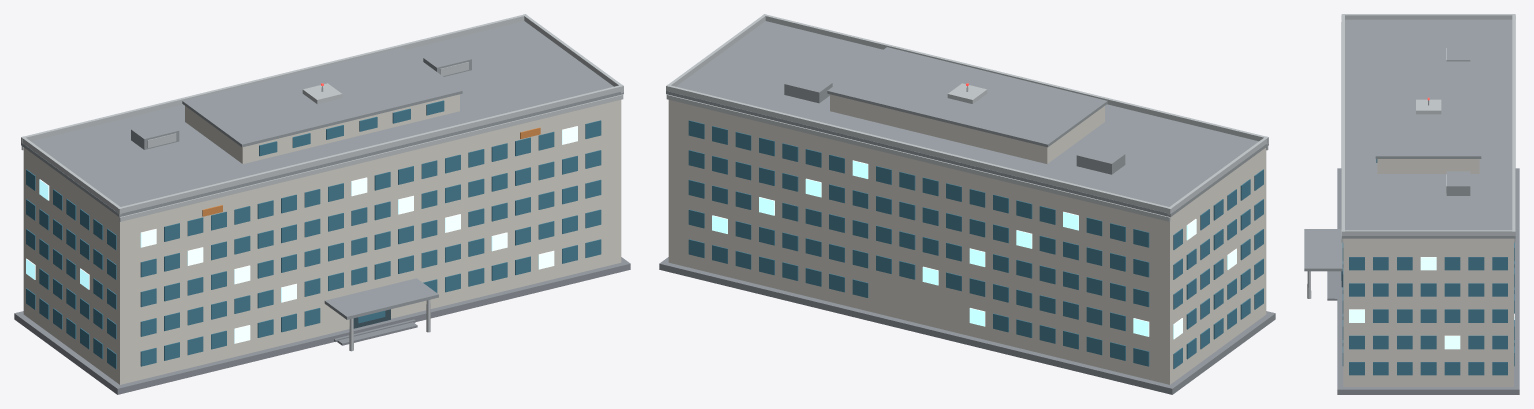
Rendered from teaching-building.glb.
3 renders of one model, left to right at view 1: azimuth 30°, elevation 25°; view 2: azimuth 150°, elevation 25°; view 3: azimuth 270°, elevation 25°, orthographic. The views are drawn at different scales.
Parts seen in each view (by area): view 1: 教学楼; view 2: 教学楼; view 3: 教学楼.
Boxes of the visible parts, left/top/right/bottom form: 教学楼: left=14, top=14, right=630, bottom=394; 教学楼: left=659, top=14, right=1275, bottom=394; 教学楼: left=1304, top=14, right=1519, bottom=394.
Size of the model in its own units: 61.4 by 24.11 by 25.3.
